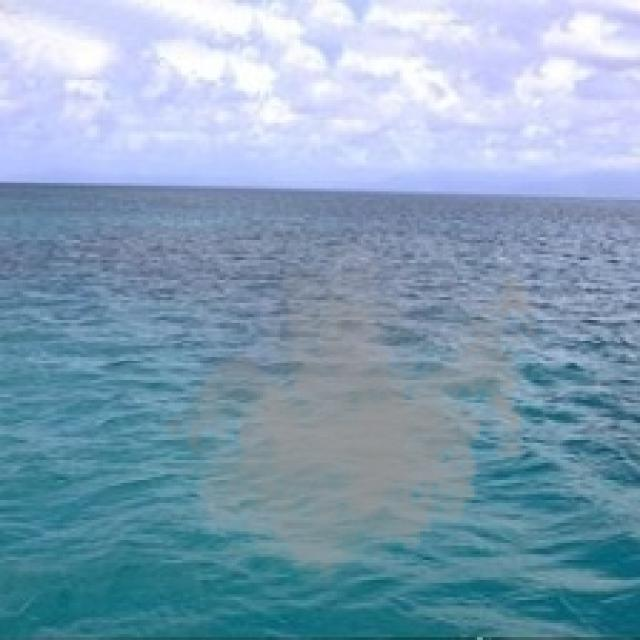smoke: (160, 208, 549, 603)
